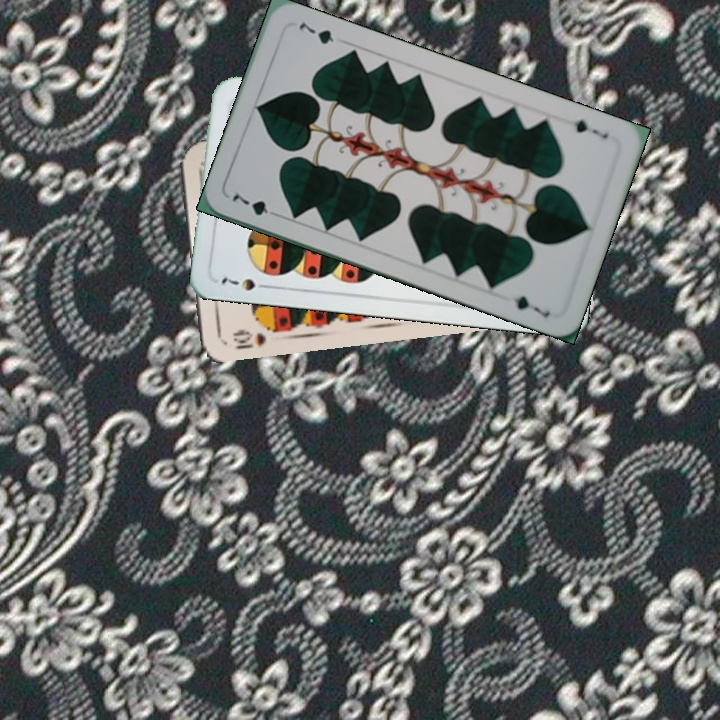G7: (228, 190, 283, 220), (569, 115, 612, 142)
S10: (229, 326, 269, 352)
S7: (217, 273, 273, 294)
